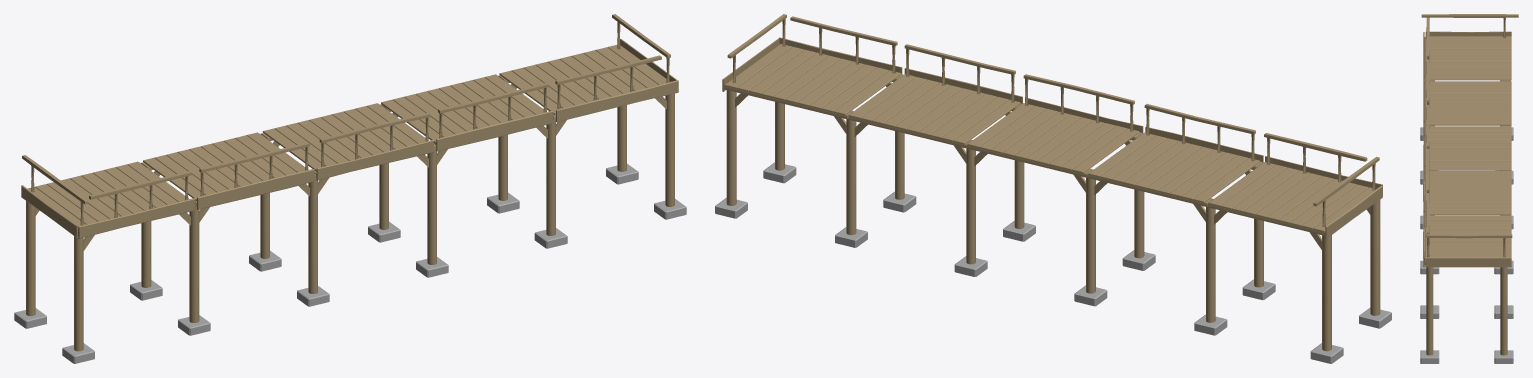
File: Dom_znati_derevannii_balkon.fbx
The picture shows the model from 3 angles, left to right: view 1: azimuth 30°, elevation 25°; view 2: azimuth 150°, elevation 25°; view 3: azimuth 270°, elevation 25°; orthographic projection. The views are drawn at different scales.
Parts seen in each view (by area): view 1: Dom_znati_derevannii_balkon; view 2: Dom_znati_derevannii_balkon; view 3: Dom_znati_derevannii_balkon.
Part boxes in pixels (box(x1,y1,x2,y2)): Dom_znati_derevannii_balkon: box(14, 14, 686, 363); Dom_znati_derevannii_balkon: box(715, 14, 1391, 363); Dom_znati_derevannii_balkon: box(1420, 14, 1518, 363).
Bounding box in the file's own units: 125 × 31.18 × 22.51.
